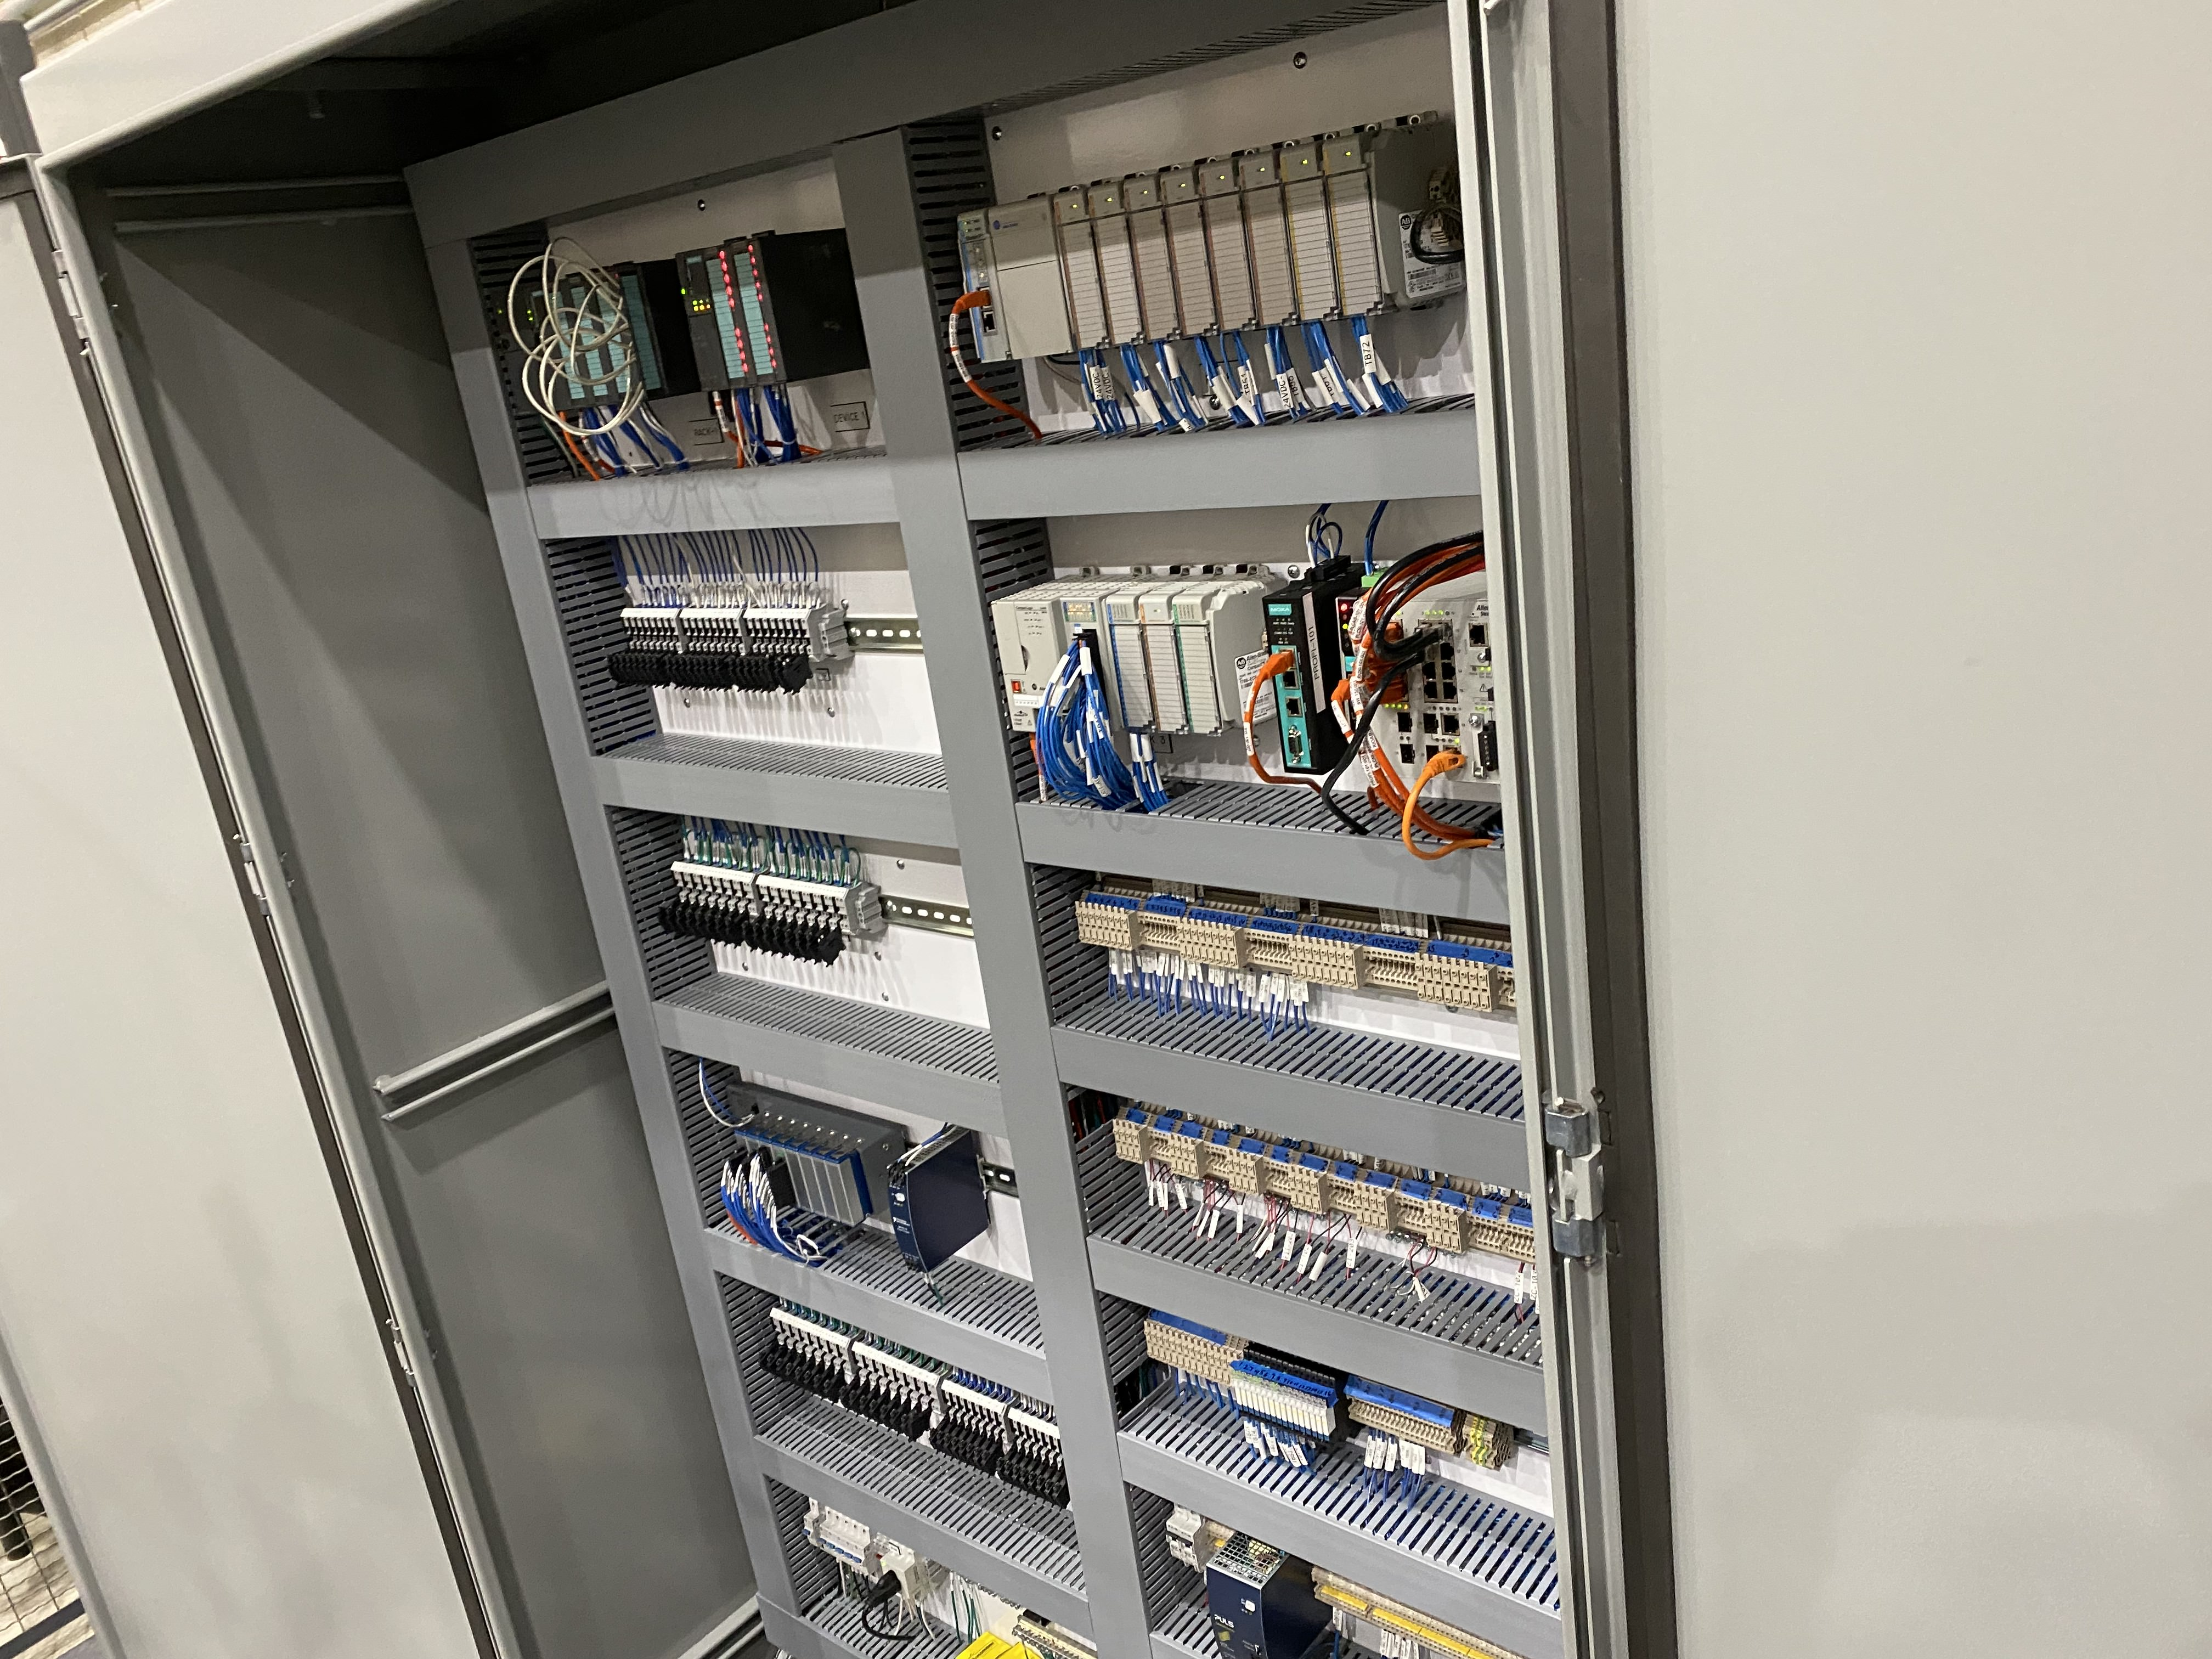AllenBradley: (988, 592, 1071, 741)
Siemens: (516, 279, 575, 415)
